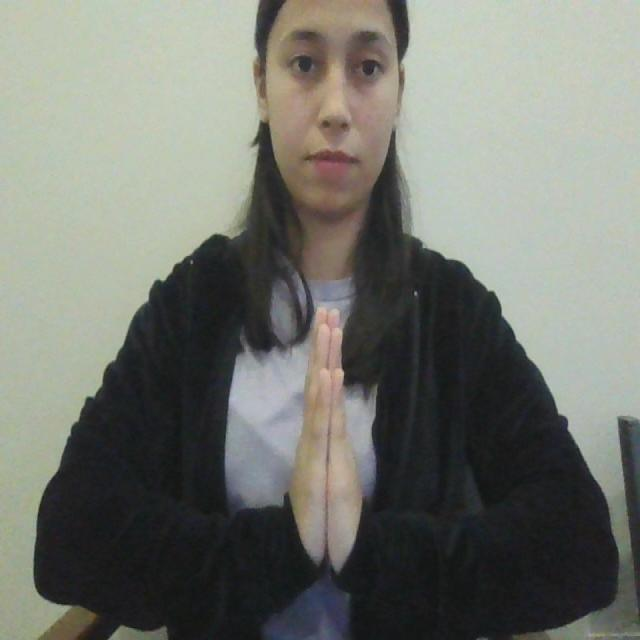Ozur-Dilemek: (282, 292, 369, 582)
